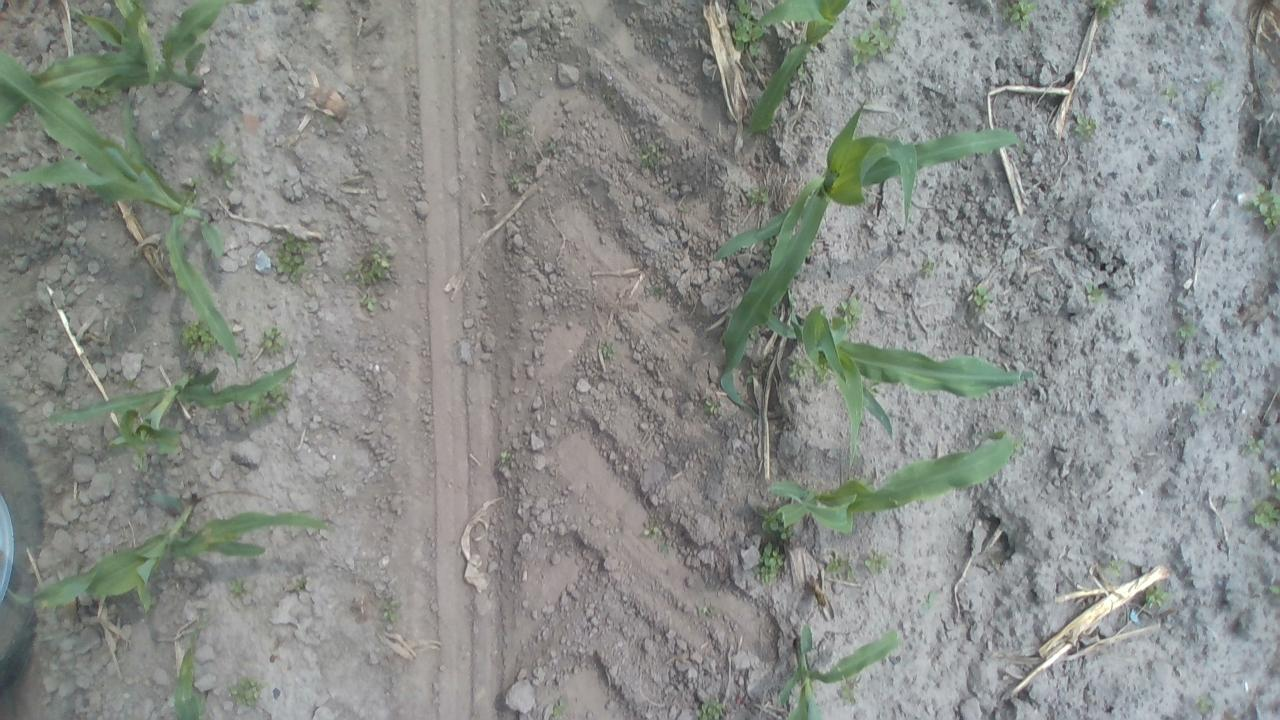Maize: (711, 98, 1025, 413), (0, 48, 252, 368), (779, 294, 1036, 466), (1, 494, 341, 616), (0, 0, 240, 134), (38, 350, 306, 466), (766, 426, 1014, 540), (740, 0, 869, 148), (769, 622, 905, 720), (165, 615, 225, 720)
Weeds: (339, 241, 398, 316), (845, 27, 902, 70), (272, 232, 312, 287), (200, 142, 242, 192), (174, 318, 222, 360), (730, 1, 766, 57), (1246, 183, 1280, 235), (223, 675, 269, 709), (642, 514, 674, 560), (754, 544, 787, 586), (789, 355, 830, 388), (1001, 4, 1040, 36), (758, 508, 798, 539), (258, 324, 292, 357), (634, 140, 663, 177), (1247, 498, 1280, 530), (1070, 108, 1099, 144), (836, 296, 864, 332), (823, 552, 855, 582), (861, 548, 890, 579), (698, 694, 731, 720), (969, 285, 992, 322), (224, 574, 252, 604), (266, 386, 294, 416), (1238, 430, 1266, 460), (836, 678, 862, 710), (509, 162, 538, 190), (1079, 281, 1110, 307), (1191, 393, 1220, 420), (689, 602, 722, 625), (284, 572, 314, 596), (544, 698, 576, 720), (1090, 0, 1122, 22), (920, 588, 946, 614), (381, 594, 402, 626), (1172, 318, 1202, 340), (1201, 354, 1226, 380), (1164, 357, 1187, 385), (1200, 78, 1228, 100), (1141, 586, 1168, 608), (1191, 694, 1218, 715), (493, 108, 513, 135), (1264, 465, 1280, 498), (540, 138, 564, 160), (702, 391, 722, 417), (599, 338, 618, 363), (748, 185, 769, 207), (493, 444, 515, 465), (1158, 86, 1180, 106), (642, 282, 669, 298), (921, 258, 941, 278), (888, 0, 906, 22), (1104, 560, 1124, 578), (508, 138, 526, 154), (1267, 581, 1280, 602), (676, 202, 692, 216), (986, 555, 1000, 570)
